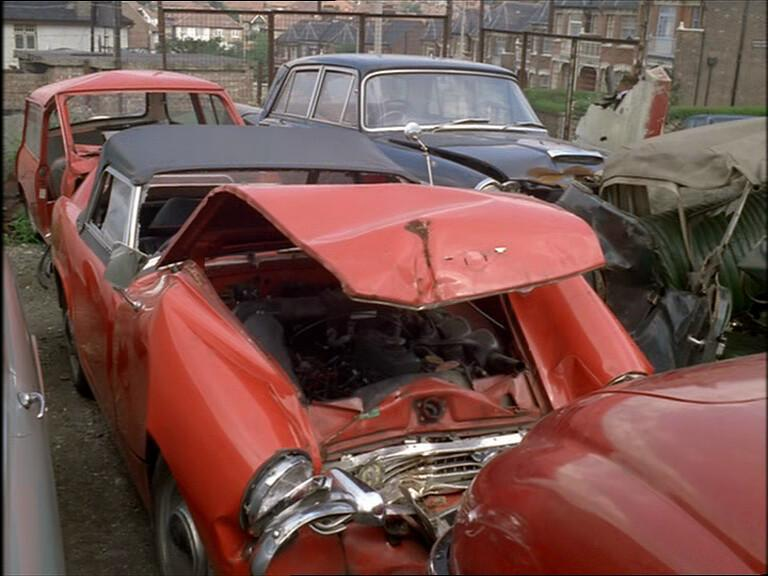bonnet-dent: (212, 143, 611, 330)
